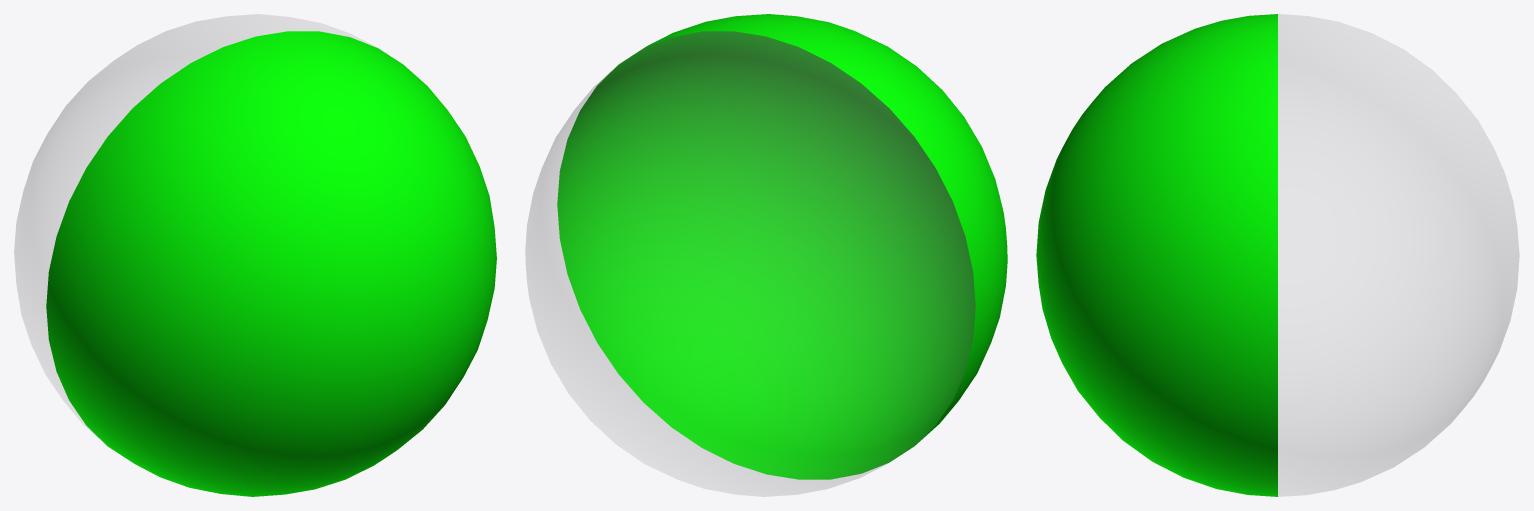
File: ball-green.glb
The picture shows the model from 3 angles, left to right: view 1: azimuth 30°, elevation 25°; view 2: azimuth 150°, elevation 25°; view 3: azimuth 270°, elevation 25°; orthographic projection.
Parts seen in each view (by area): view 1: ball.001; view 2: ball.001; view 3: ball.001.
Part boxes in pixels (x1=…): ball.001: x1=14, y1=14, x2=496, y2=496; ball.001: x1=525, y1=14, x2=1007, y2=496; ball.001: x1=1036, y1=14, x2=1519, y2=496.
Bounding box in the file's own units: 0.3 × 0.3 × 0.3.
